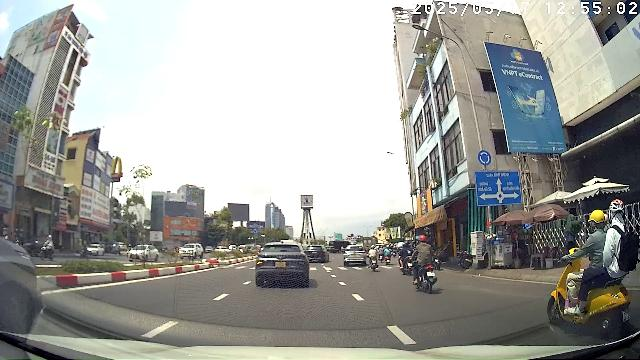303-noi-giao-nhau-chay-theo-vong-xuyen: (478, 150, 492, 166)
